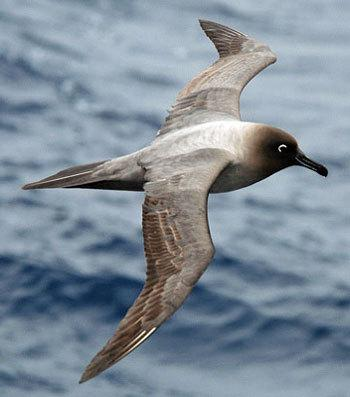003.Sooty_Albatross: (21, 19, 330, 383)
